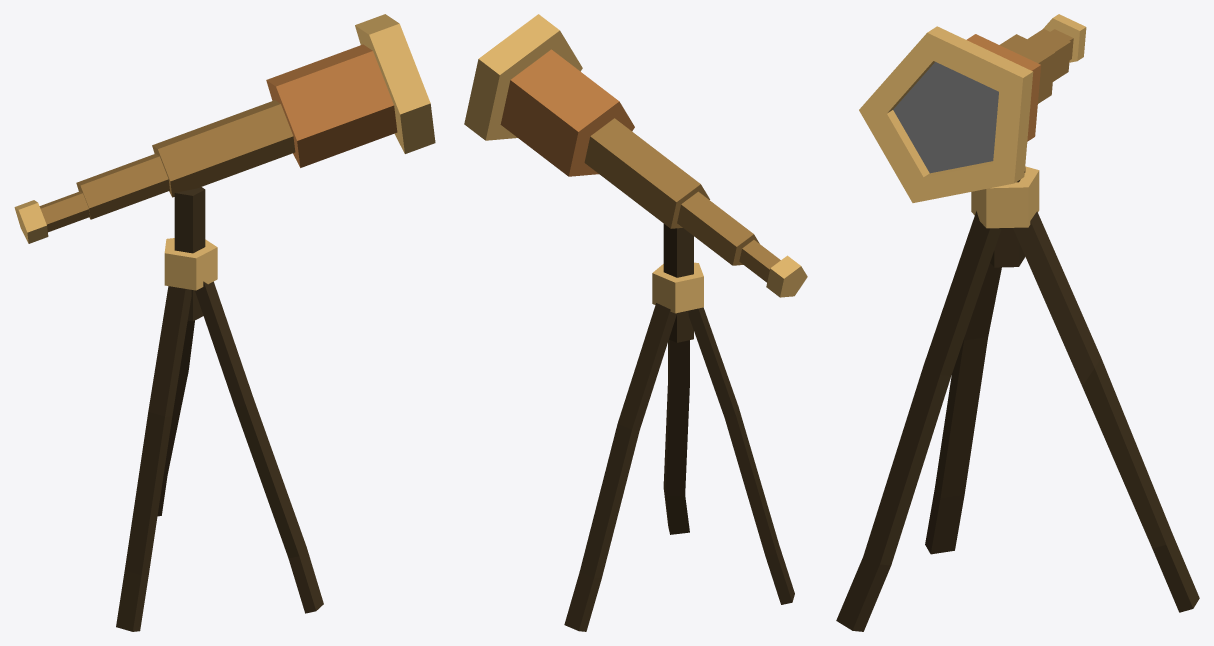
File: Beach_House_Telescope.fbx
3 renders of one model, left to right at view 1: azimuth 30°, elevation 25°; view 2: azimuth 150°, elevation 25°; view 3: azimuth 270°, elevation 25°, orthographic. The views are drawn at different scales.
Parts seen in each view (by area): view 1: Beach_House_Telescope; view 2: Beach_House_Telescope; view 3: Beach_House_Telescope.
Part boxes in pixels (left/top/right/bottom): Beach_House_Telescope: left=14, top=14, right=435, bottom=631; Beach_House_Telescope: left=464, top=14, right=807, bottom=631; Beach_House_Telescope: left=836, top=14, right=1199, bottom=631.
Size of the model in its own units: 2.84 by 3.99 by 1.94.
